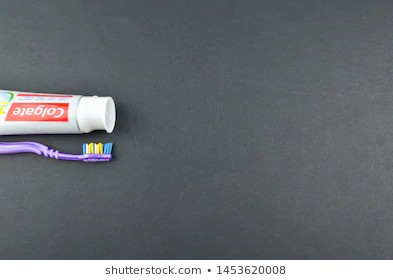toothbrush: (1, 138, 123, 163)
